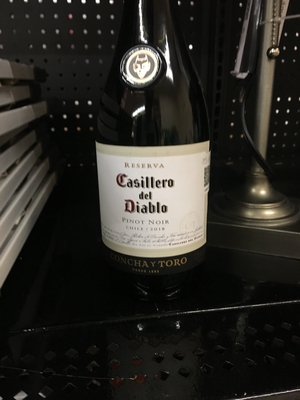casillero del diablo pinot noir: (69, 6, 242, 308)
